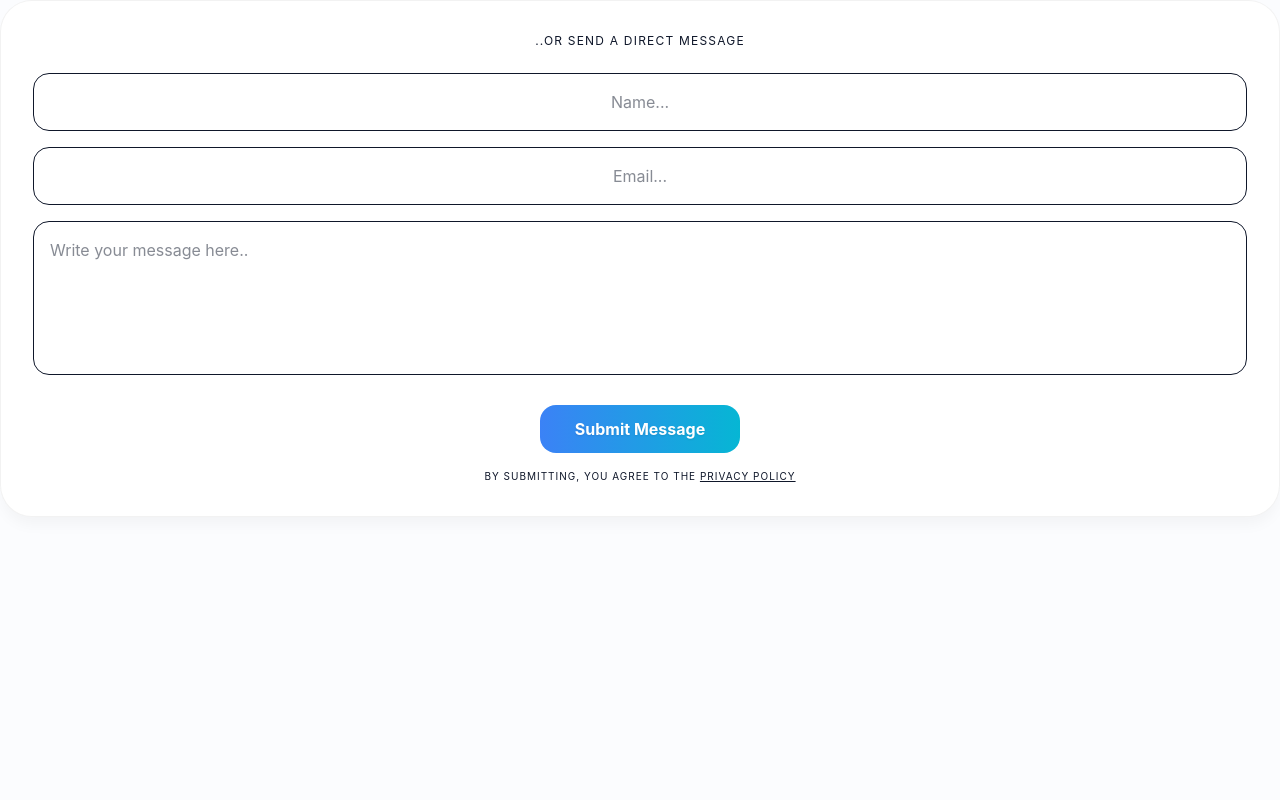
Test case: ContactForm Component › should handle server error message from API
Wypełniamy formularz
Type "Test User" into the field with placeholder "Name...".
click(640, 102); type("Test User")  # box [33, 73, 1247, 131]
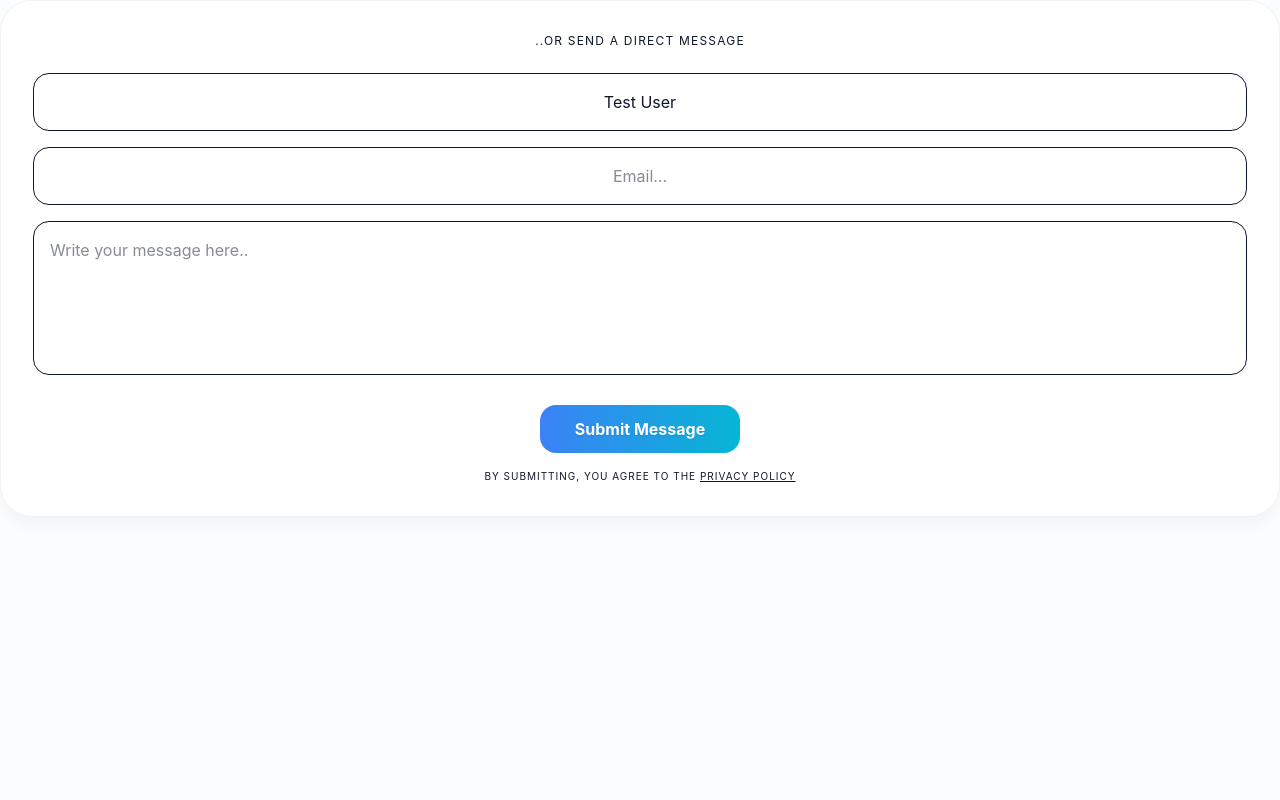
Type "test@test.com" into the field with placeholder "Email...".
click(640, 176); type("test@test.com")  # box [33, 147, 1247, 205]
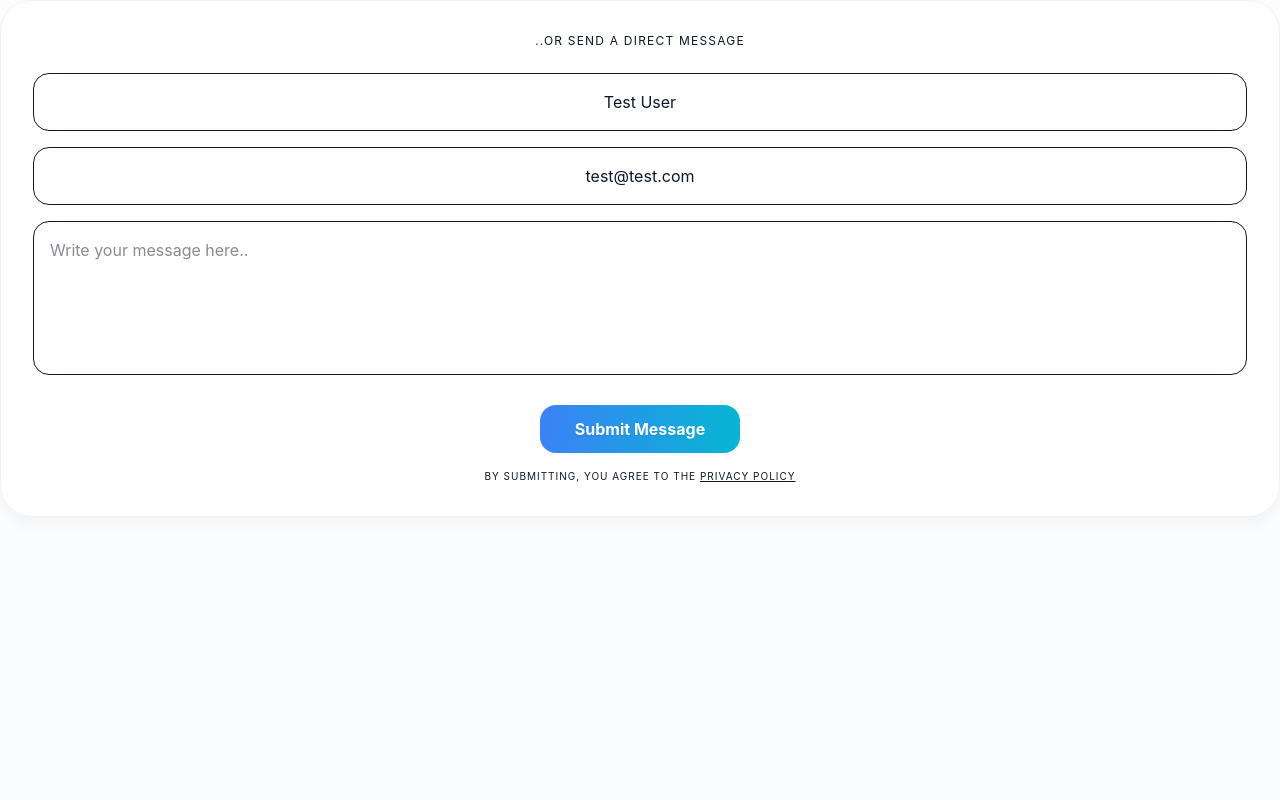
Type "Message content" into the text box with placeholder "Write your message here..".
click(640, 298); type("Message content")  # box [33, 221, 1247, 375]
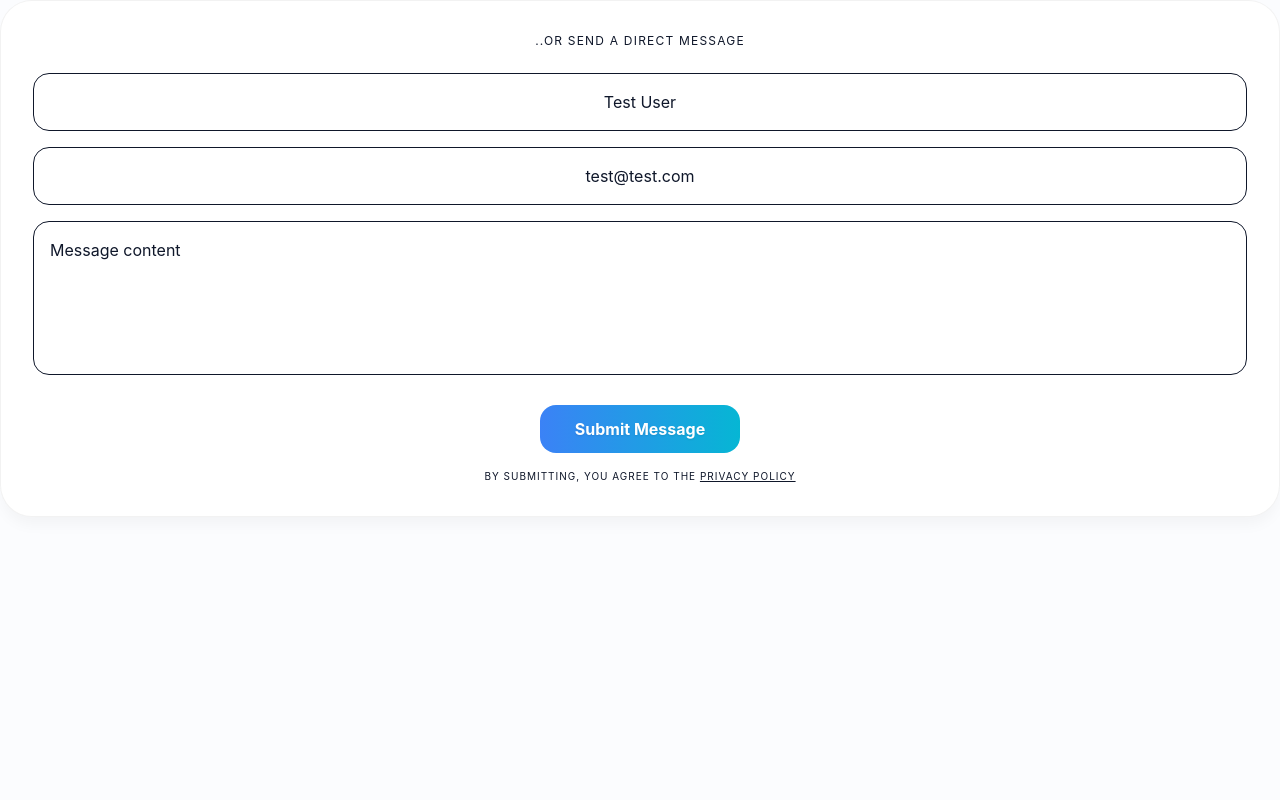
Click the button "Submit Message".
click(640, 429)  # box [540, 405, 740, 453]
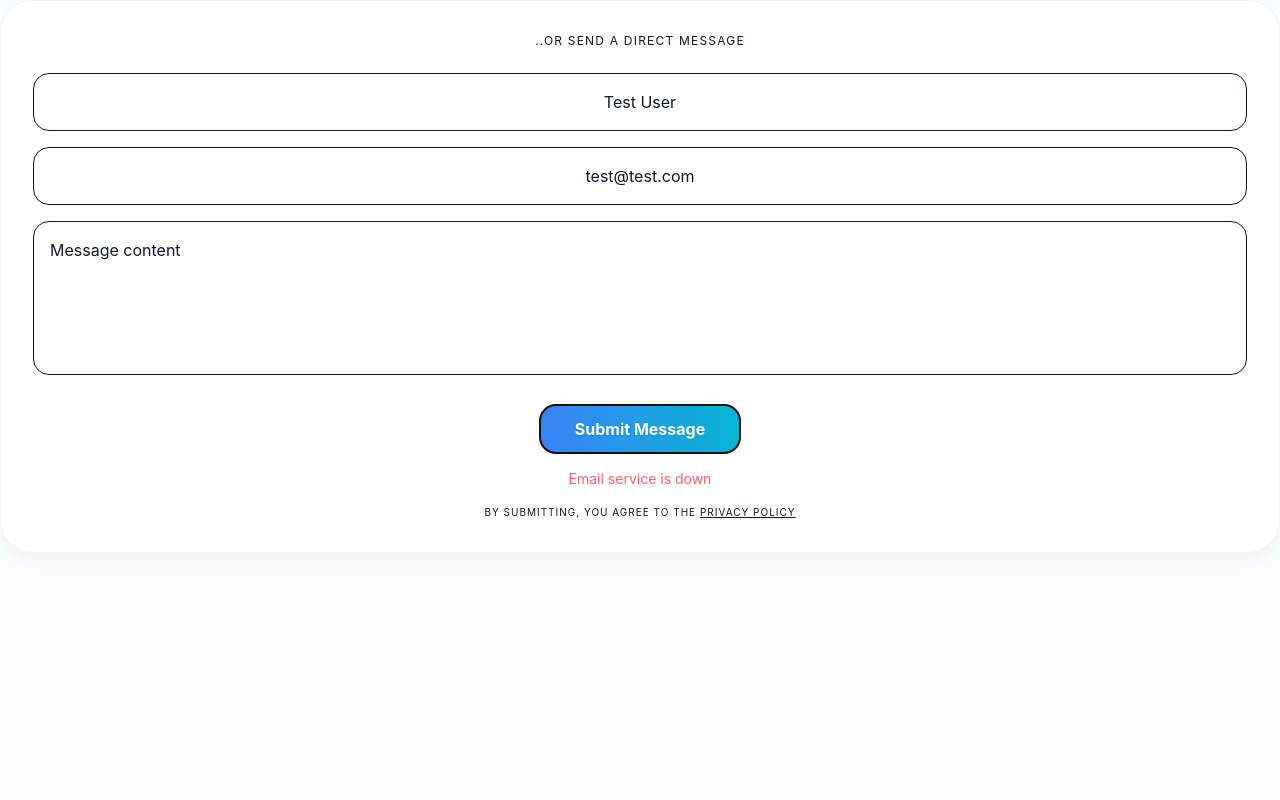
Check: the text "Email service is down" is shown, box [569, 470, 711, 487]
